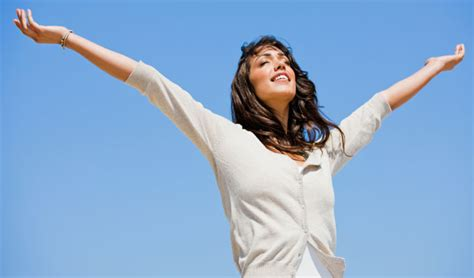femme: (82, 12, 444, 263)
